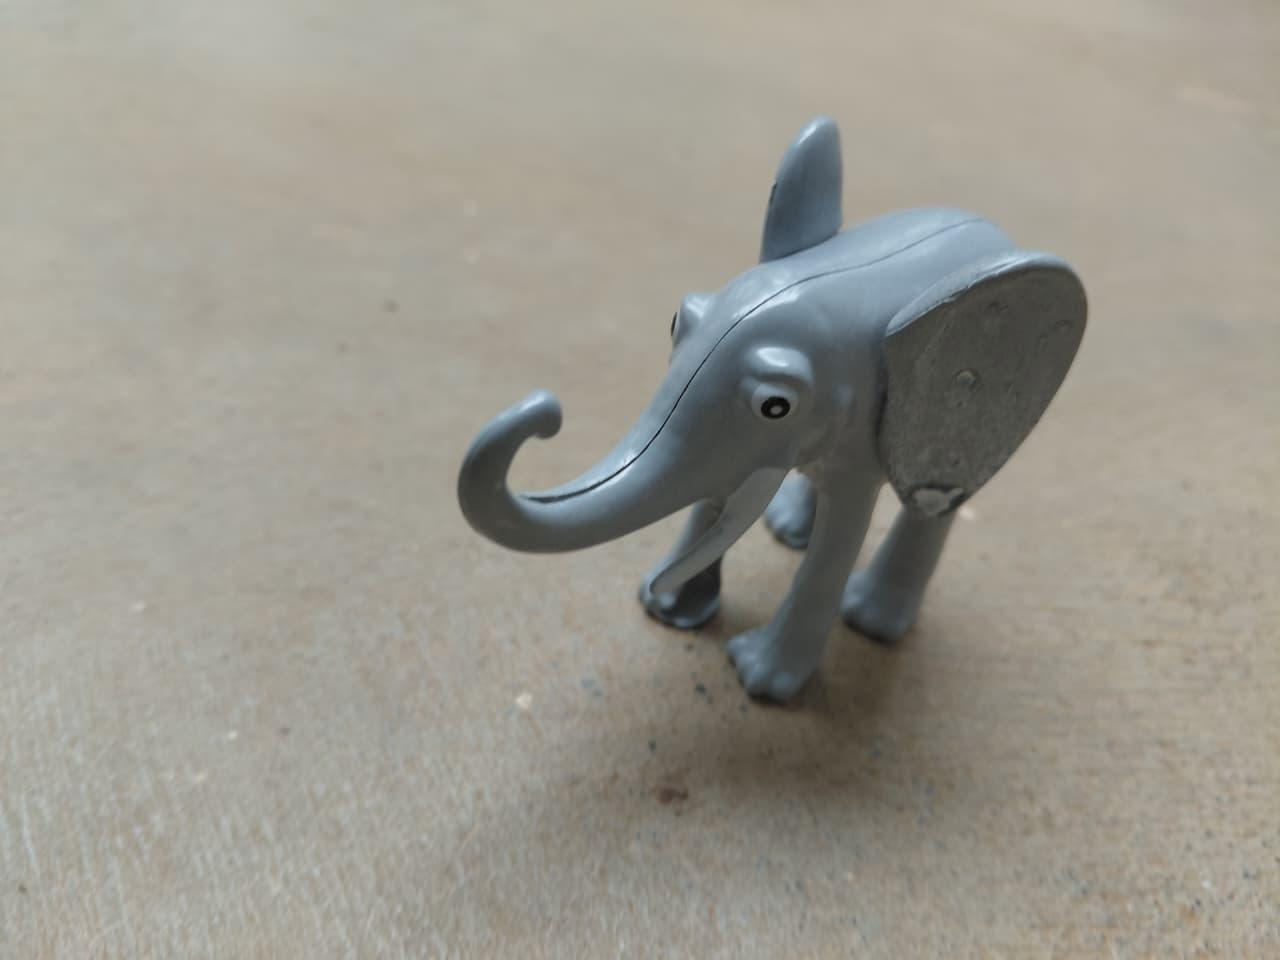elephant: (447, 101, 1098, 711)
